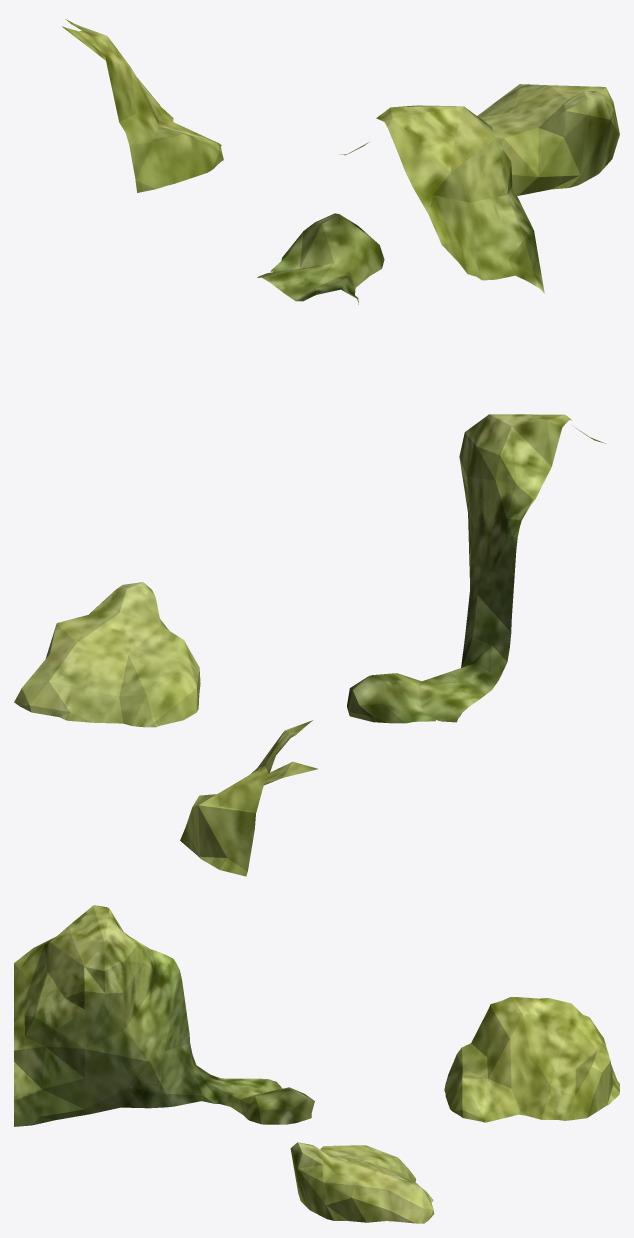
3 views of the same model, one above another, from view 1: azimuth 30°, elevation 25°; view 2: azimuth 150°, elevation 25°; view 3: azimuth 270°, elevation 25° (orthographic). The views are drawn at different scales.
Bounding box in the file's own units: 1.3 × 0.7764 × 2.36.
Materials: 1 (1 with a texture image).
